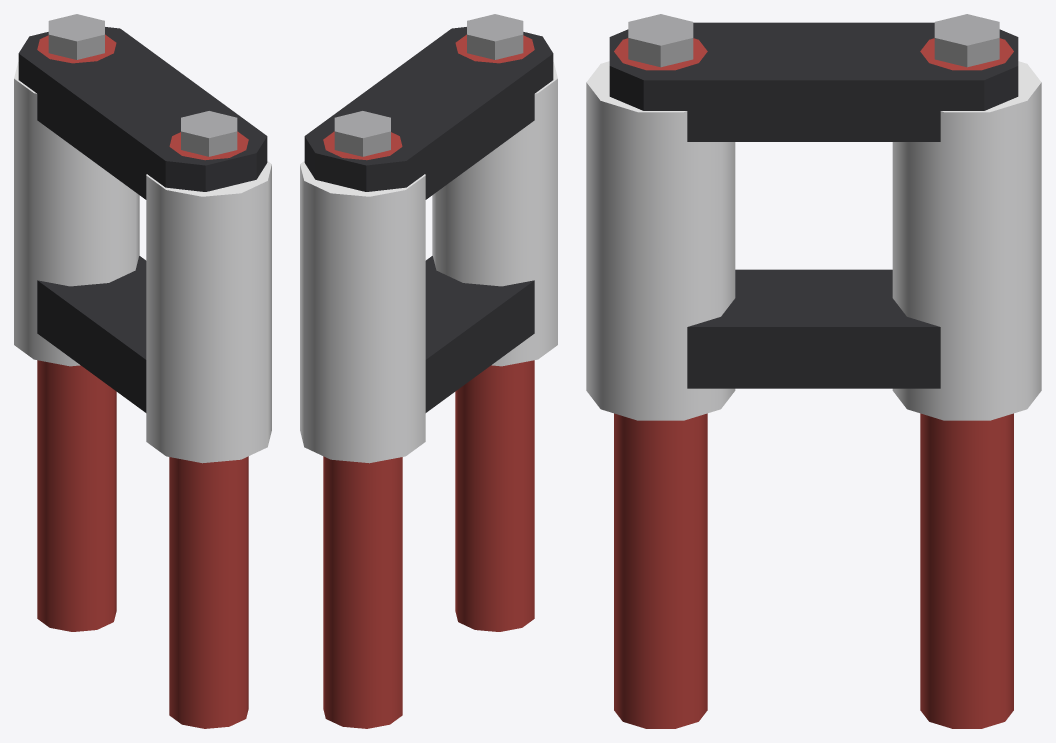
File: tourer_fork_chrome_upper_lod1.glb
The picture shows the model from 3 angles, left to right: view 1: azimuth 30°, elevation 25°; view 2: azimuth 150°, elevation 25°; view 3: azimuth 270°, elevation 25°; orthographic projection. The views are drawn at different scales.
Parts seen in each view (by area): view 1: tourer_fork_chrome_upper_lod1; view 2: tourer_fork_chrome_upper_lod1; view 3: tourer_fork_chrome_upper_lod1.
Part boxes in pixels (x1=…): tourer_fork_chrome_upper_lod1: x1=14, y1=14, x2=271, y2=728; tourer_fork_chrome_upper_lod1: x1=300, y1=14, x2=557, y2=728; tourer_fork_chrome_upper_lod1: x1=586, y1=14, x2=1041, y2=728.
Size of the model in its own units: 0.0831 by 0.441 by 0.2674.
